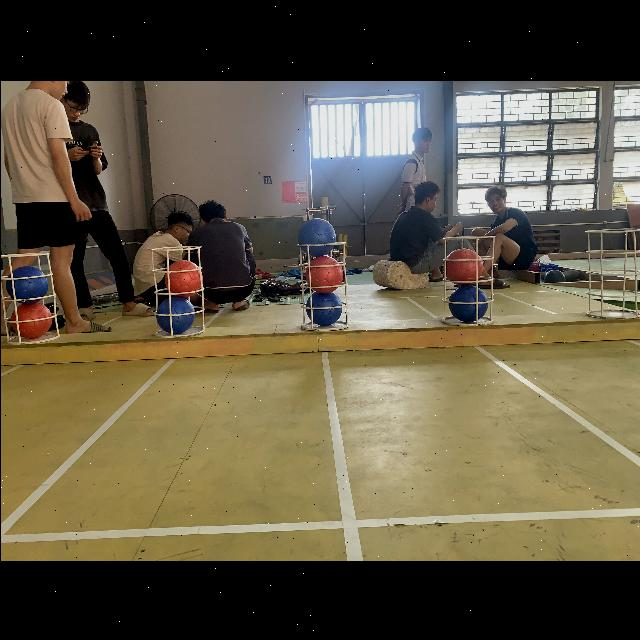B: (4, 266, 46, 302), (297, 218, 335, 256), (152, 298, 194, 330), (306, 292, 342, 328), (451, 288, 485, 324)
R: (9, 302, 51, 340), (446, 248, 482, 286), (164, 258, 202, 294), (305, 258, 341, 292)
